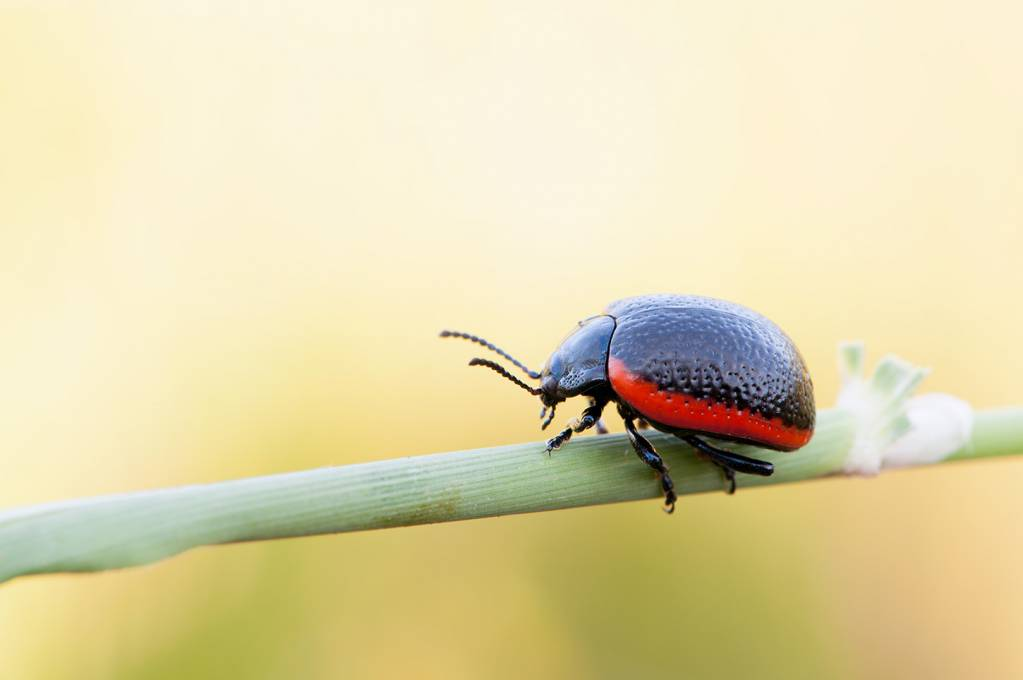Chrysolina_gypsophila: (436, 287, 816, 517)
